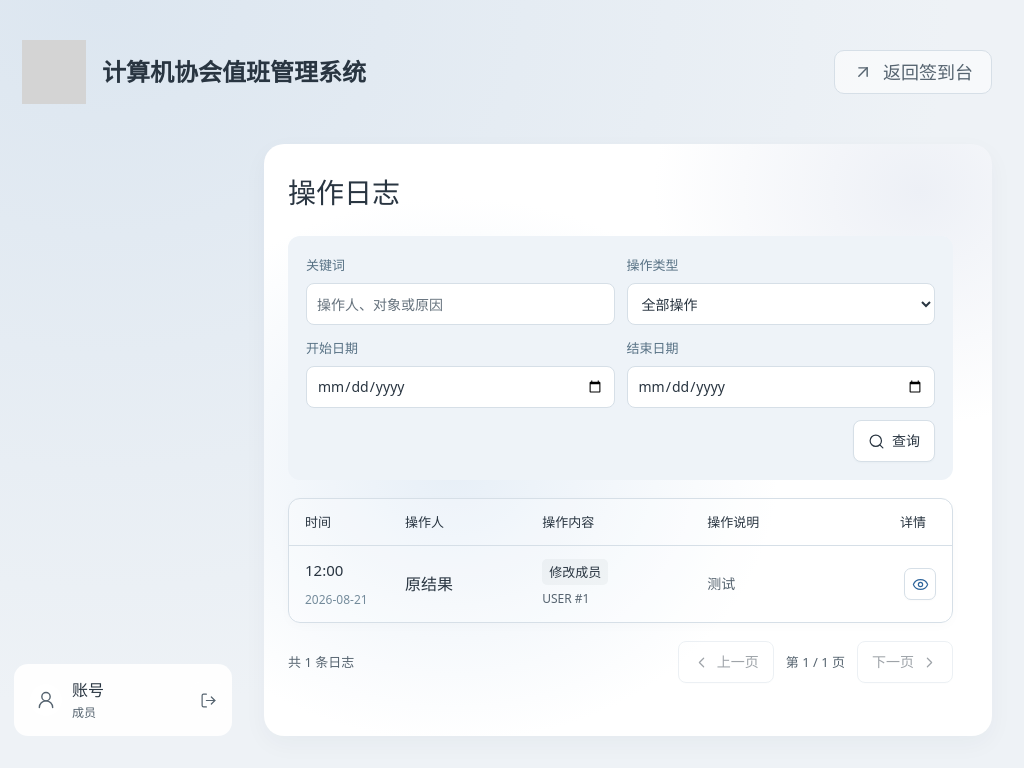
Test: LogsPage request states › keeps the previous results and retries the failed filter
This screenshot has width=1024, height=768.
In the search field named "logKeyword": (460, 304) [306,283,614,325], type "待重试"
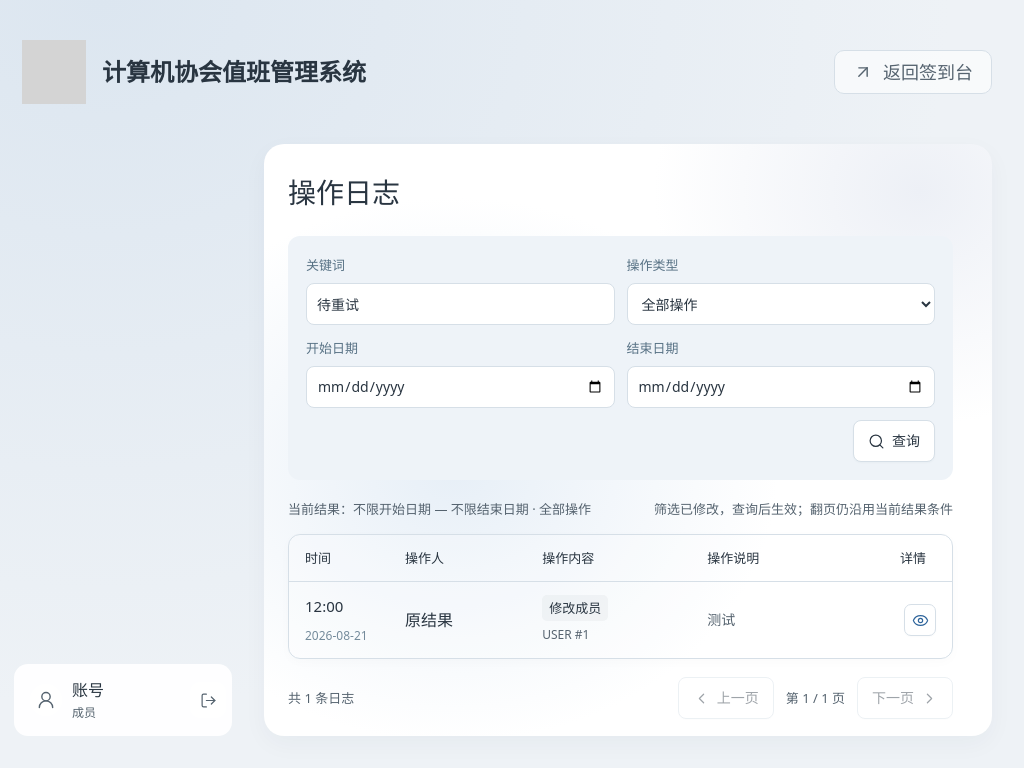
Submit the form with class "filter-bar", box [288,236,953,480]
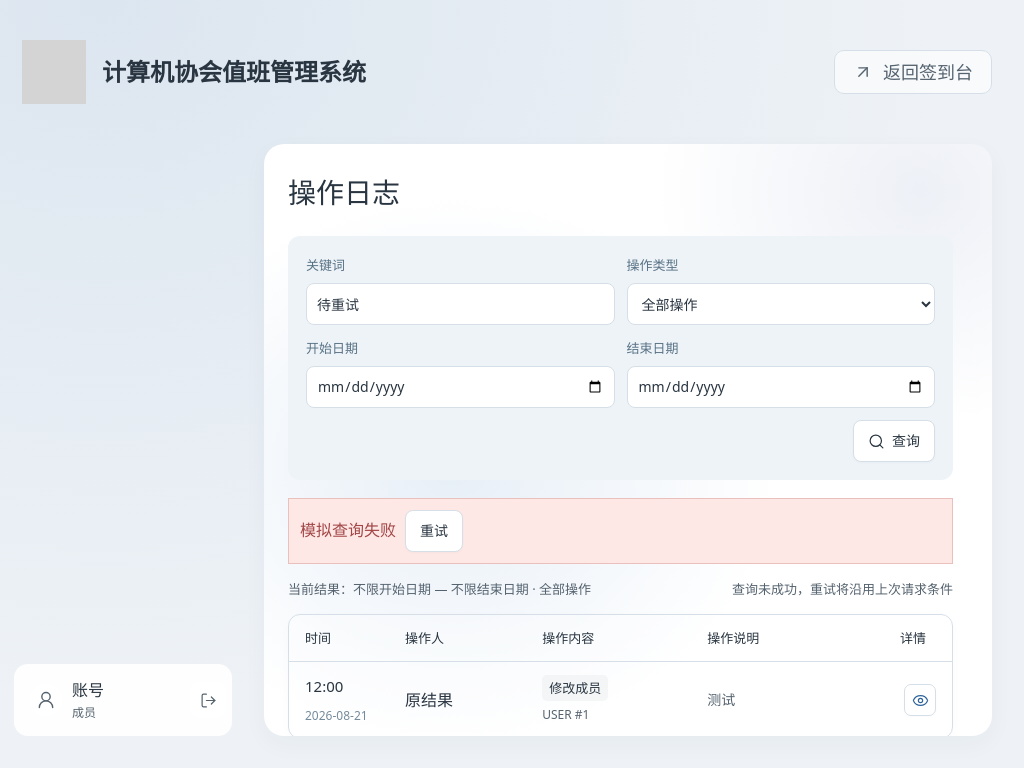
Result: the text "模拟查询失败" is shown at [300,518,396,544]
Result: the element with class "audit-query-context" shows "查询未成功" at [732,580,953,598]
Result: the message with class "audit-query-context" no longer shows "筛选已修改"
Click the button "重试": (434, 531) [405,510,463,552]
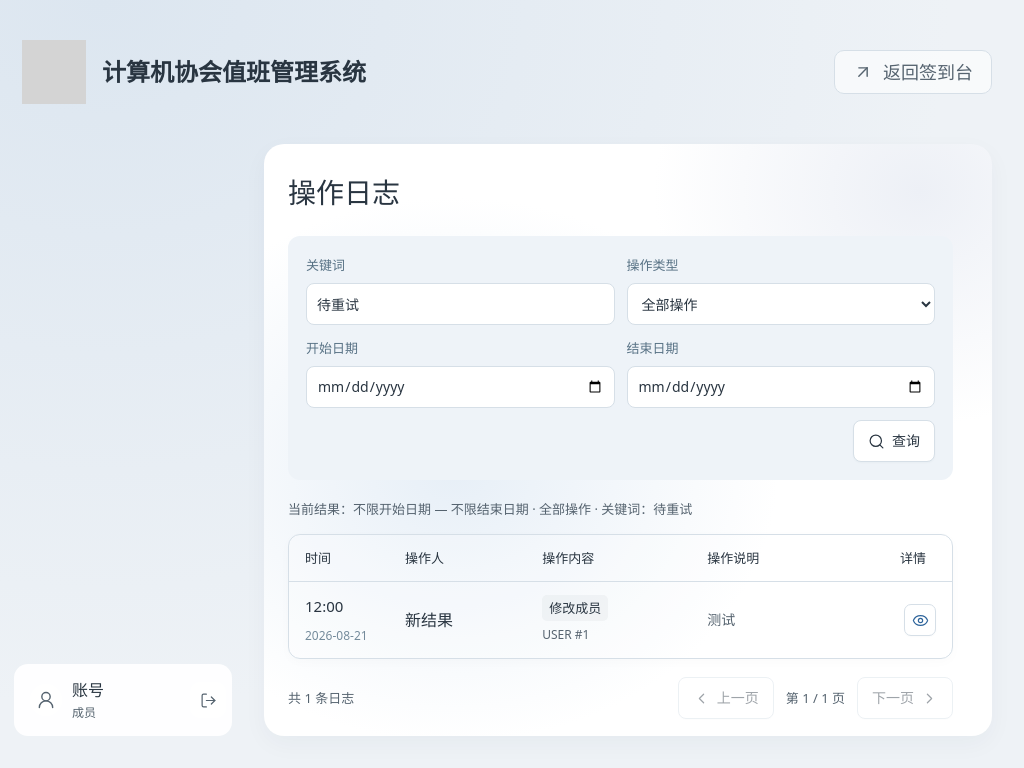
Result: the text "新结果" is shown at [405,609,453,631]
Result: the text "原结果" is gone
